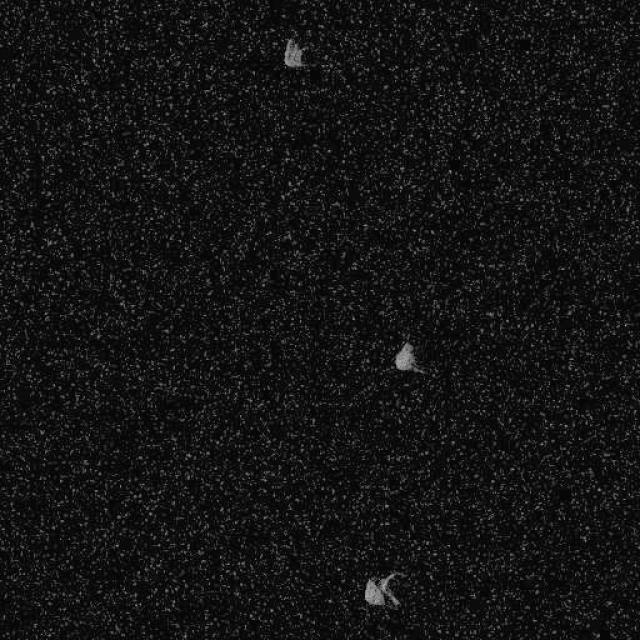D2: (362, 570, 402, 611), (392, 340, 427, 374), (282, 36, 308, 68)
